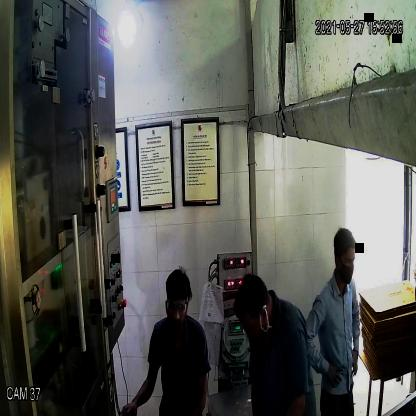goggles: (164, 296, 190, 314)
no_goggles: (341, 254, 358, 268)
